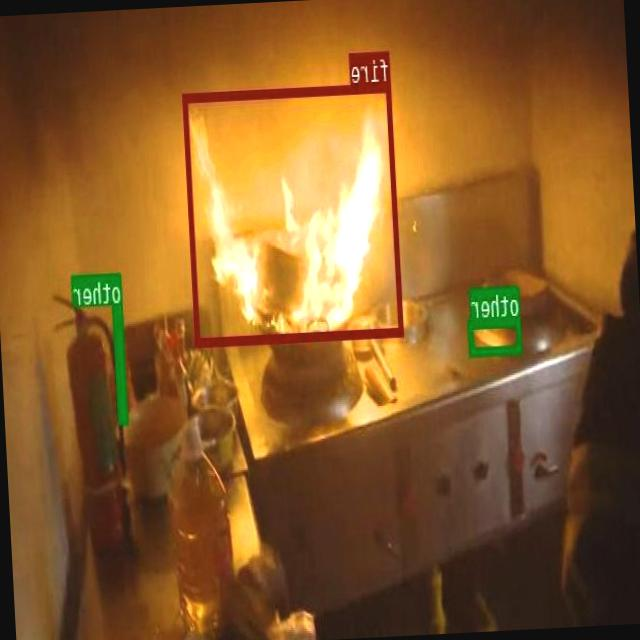fire: (184, 80, 405, 347)
